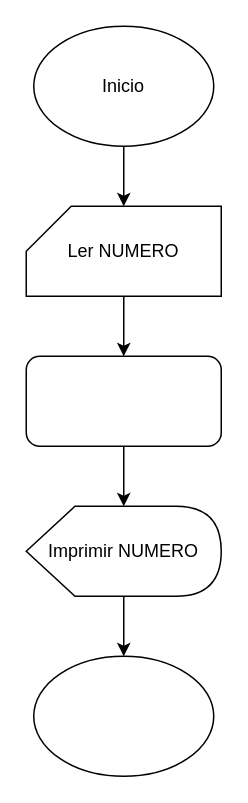
Image size: 248x803. Some labels were removed from this diagram. The centre of each missing label's shape, as x and y in pixels:
"Fim" belongs at (x=123, y=715).
"NUMERO *= 2" belongs at (x=123, y=400).
